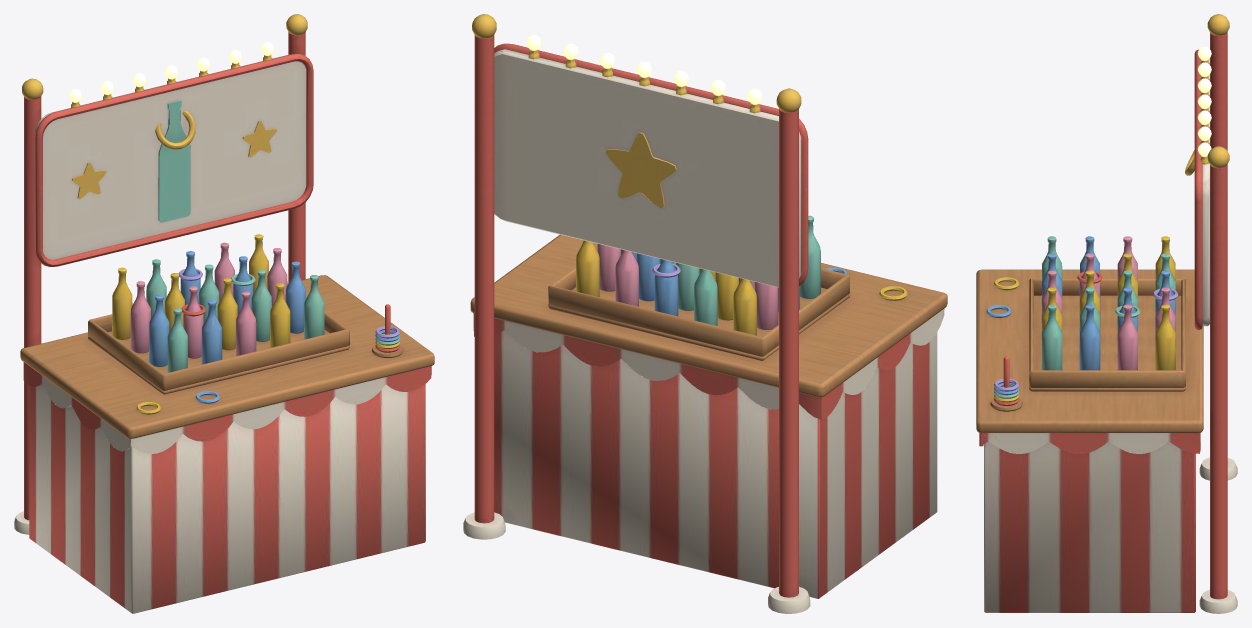
File: lanzar_aros.glb
3 renders of one model, left to right at view 1: azimuth 30°, elevation 25°; view 2: azimuth 150°, elevation 25°; view 3: azimuth 270°, elevation 25°, orthographic. The views are drawn at different scales.
Visible parts, largest first — view 1: ring-toss_body; view 2: ring-toss_body; view 3: ring-toss_body.
Part boxes in pixels (bbox=[...]): ring-toss_body: bbox=[14, 14, 434, 613]; ring-toss_body: bbox=[463, 14, 947, 613]; ring-toss_body: bbox=[976, 14, 1237, 613].
Size of the model in its own units: 1.44 by 2.01 by 1.03.
2 materials, 1 textured.
